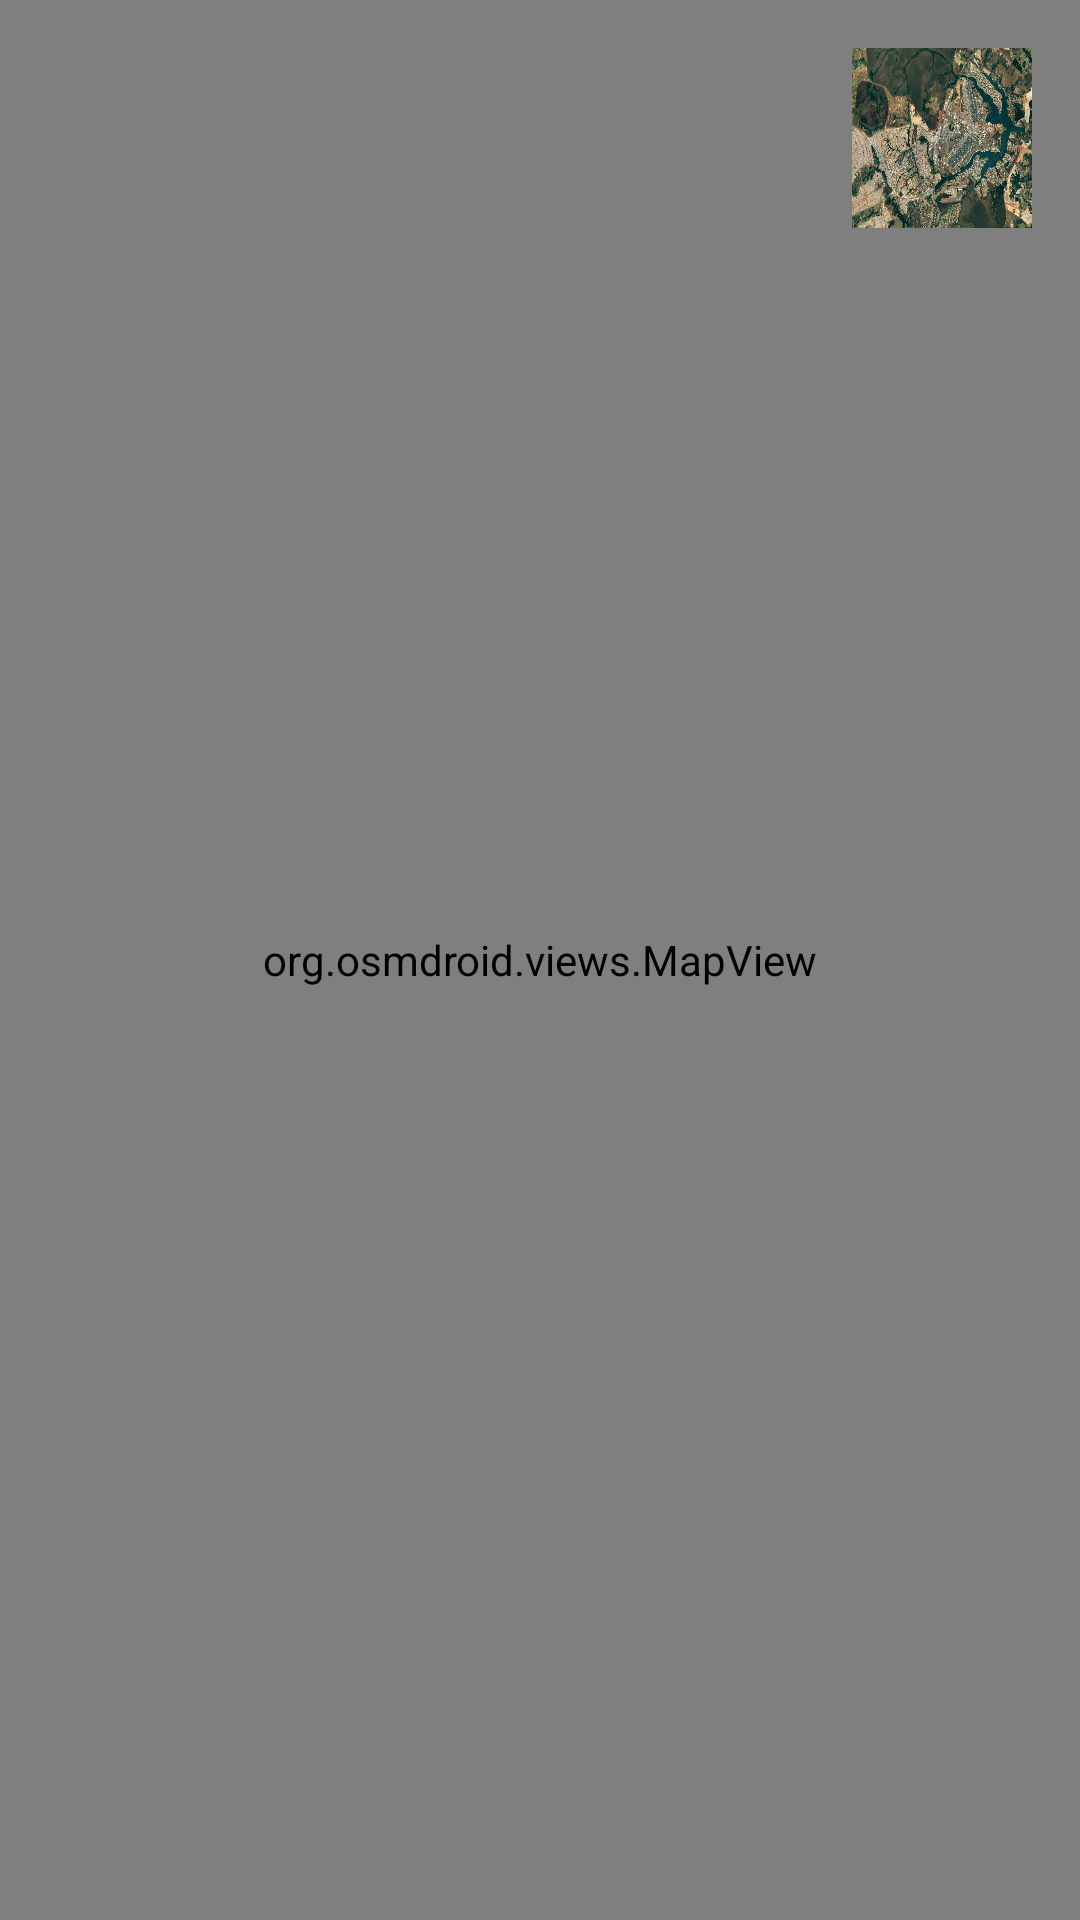

Icons on this 1080 × 1920 Android screen, each with its box as bbox=(x1, y1, x2, y2):
satelliteicon: bbox=(852, 48, 1032, 228)
